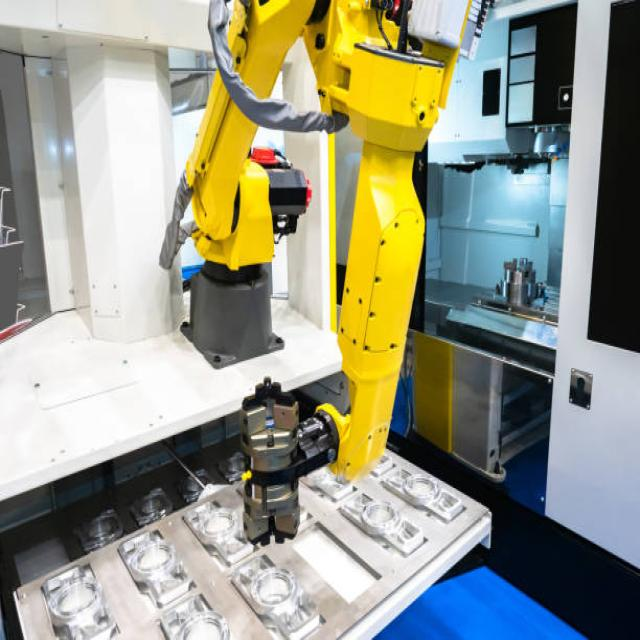Robotic-arm: (163, 0, 489, 474)
